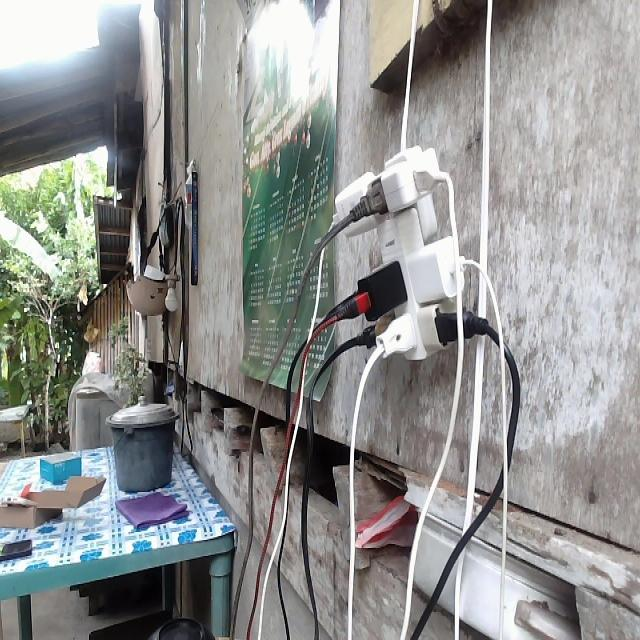-: (332, 145, 472, 363)
